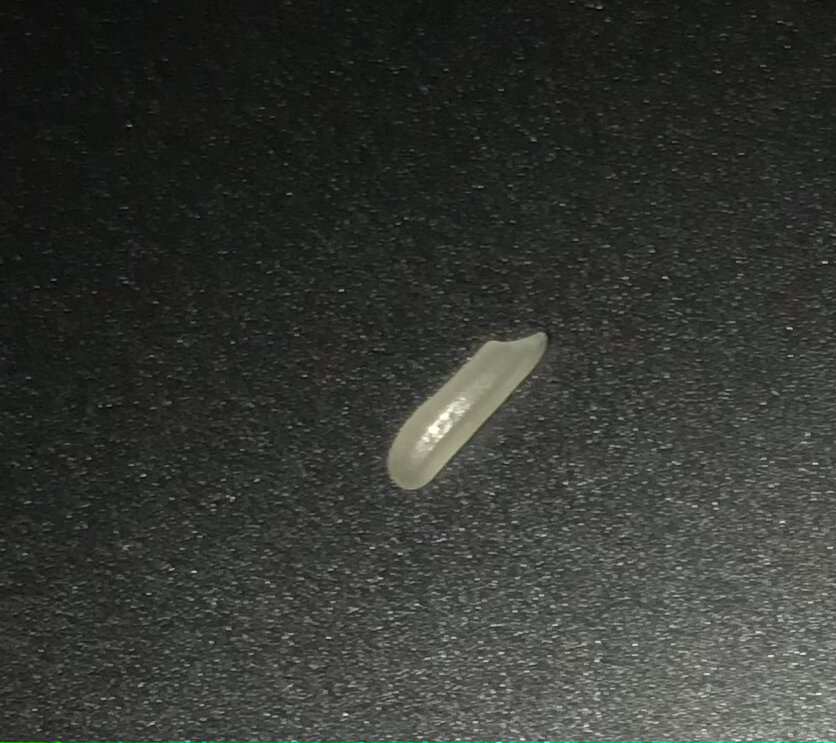Gao Long Lai: (385, 327, 555, 495)
